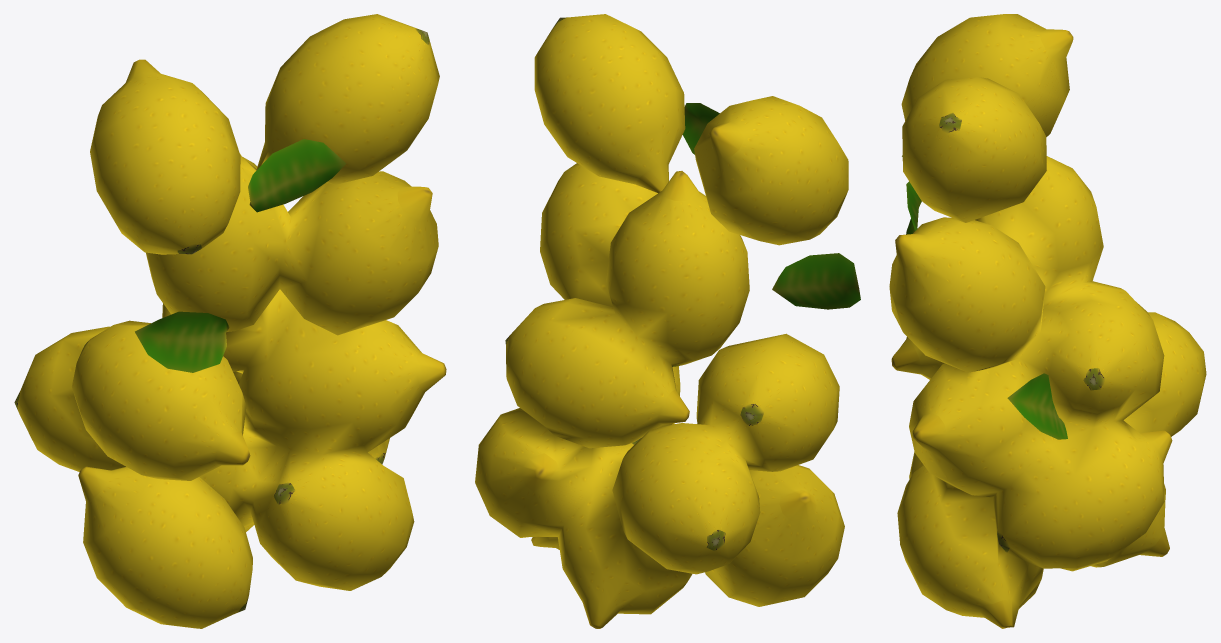
Rendered from lemonsInBox.fbx.
3 renders of one model, left to right at view 1: azimuth 30°, elevation 25°; view 2: azimuth 150°, elevation 25°; view 3: azimuth 270°, elevation 25°, orthographic. The views are drawn at different scales.
Visible parts, largest first — view 1: LemonsInBox; view 2: LemonsInBox; view 3: LemonsInBox.
Boxes of the visible parts, x1,y1,x2,y2 form: LemonsInBox: [14, 14, 446, 628]; LemonsInBox: [475, 14, 860, 628]; LemonsInBox: [889, 14, 1206, 628].
Size of the model in its own units: 54.1 by 88.9 by 47.15.
